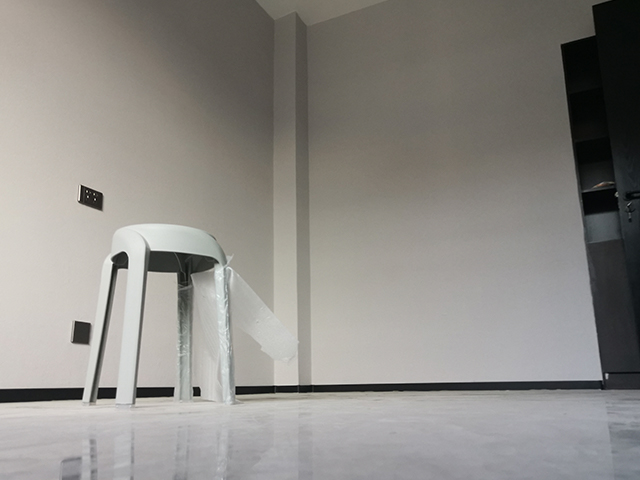stool: (79, 222, 239, 407)
